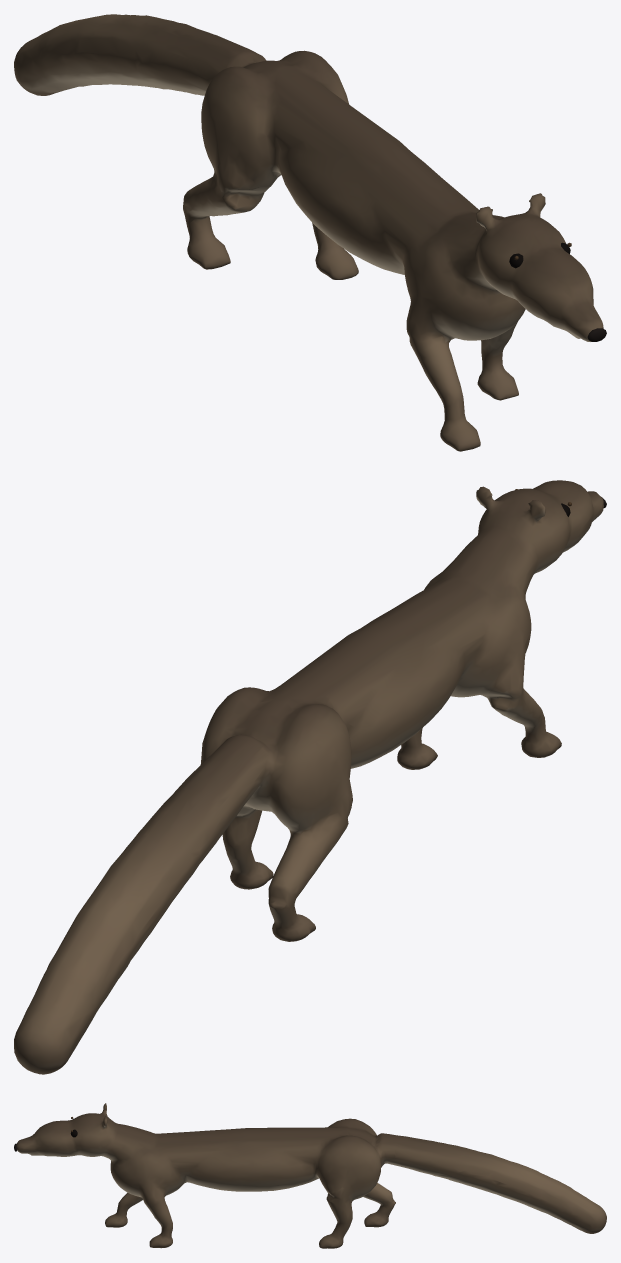
Rendered from MiacisParvivorus.fbx.
The picture shows the model from 3 angles, top to bottom: view 1: azimuth 30°, elevation 25°; view 2: azimuth 150°, elevation 25°; view 3: azimuth 270°, elevation 25°; orthographic projection. The views are drawn at different scales.
Parts seen in each view (by area): view 1: MiacisParvivorus; view 2: MiacisParvivorus; view 3: MiacisParvivorus.
Part boxes in pixels (x1=…): MiacisParvivorus: x1=14, y1=14, x2=606, y2=451; MiacisParvivorus: x1=14, y1=480, x2=606, y2=1074; MiacisParvivorus: x1=14, y1=1103, x2=606, y2=1248.
Size of the model in its own units: 0.2406 by 0.4338 by 1.85.
